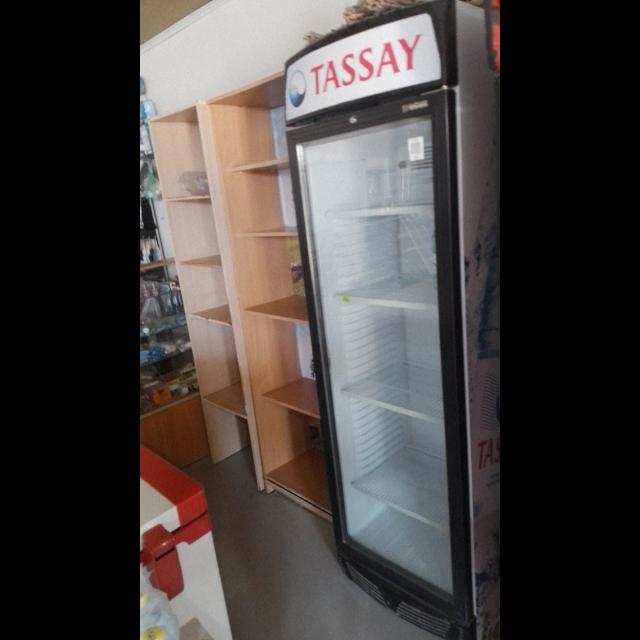Cooling-Display: (280, 1, 474, 640)
